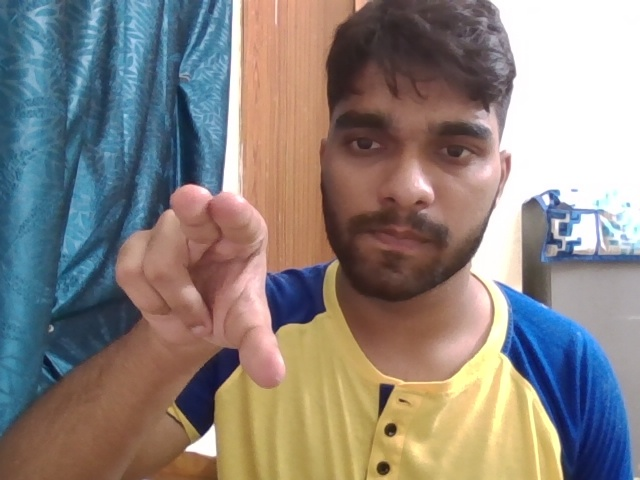No: (81, 177, 326, 393)
